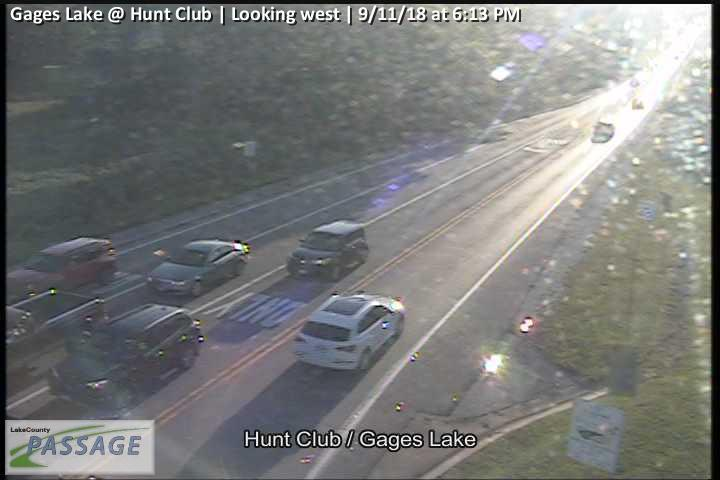SUV: (48, 303, 202, 415), (293, 291, 405, 373), (5, 237, 117, 298), (288, 220, 367, 279)
Sedan: (148, 238, 249, 297)
Truck: (1, 289, 106, 380)
